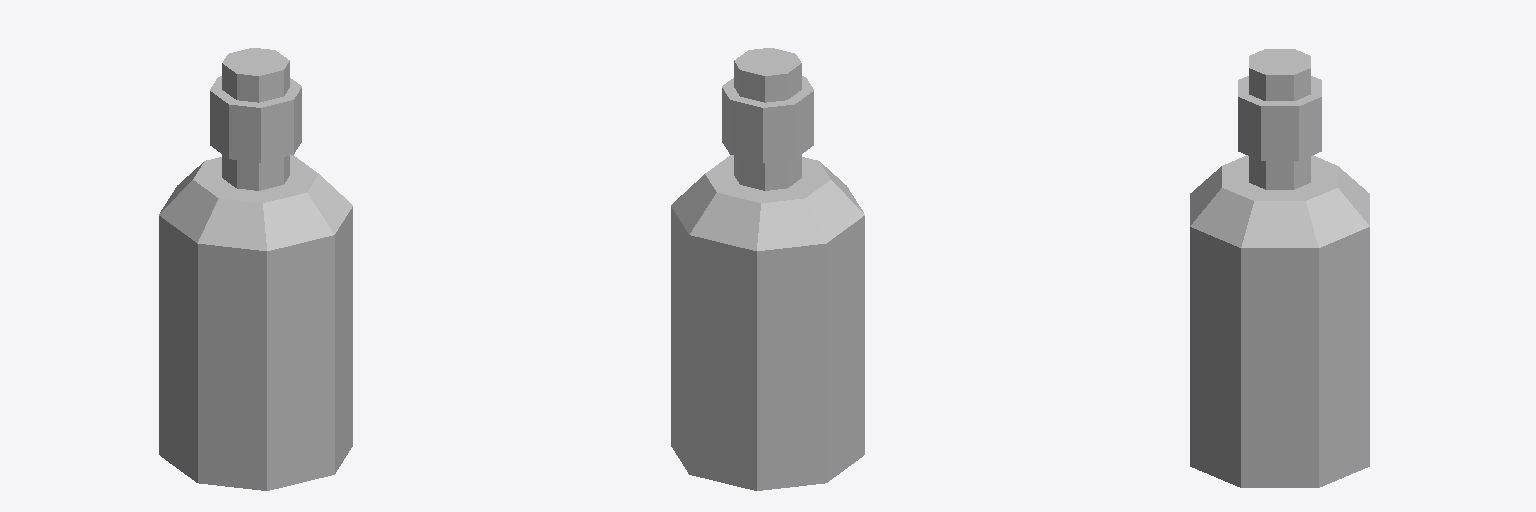
Rendered from Toypurina_bottle.obj.
3 renders of one model, left to right at view 1: azimuth 30°, elevation 25°; view 2: azimuth 150°, elevation 25°; view 3: azimuth 270°, elevation 25°, orthographic.
Parts seen in each view (by area): view 1: Mesh2 Group1 Model, Mesh1 Group2 Group1 Model; view 2: Mesh2 Group1 Model, Mesh1 Group2 Group1 Model; view 3: Mesh2 Group1 Model, Mesh1 Group2 Group1 Model.
Part boxes in pixels (left/top/right/bottom): Mesh2 Group1 Model: left=159, top=76, right=352, bottom=490; Mesh1 Group2 Group1 Model: left=222, top=48, right=289, bottom=102; Mesh2 Group1 Model: left=671, top=76, right=864, bottom=490; Mesh1 Group2 Group1 Model: left=734, top=48, right=801, bottom=102; Mesh2 Group1 Model: left=1190, top=76, right=1369, bottom=487; Mesh1 Group2 Group1 Model: left=1249, top=49, right=1310, bottom=100.
Size of the model in its own units: 31.31 by 74.5 by 31.31.